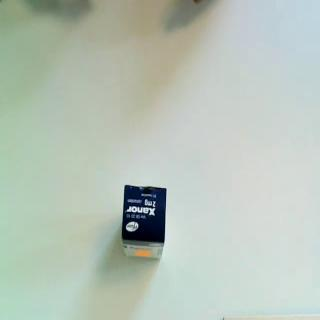xanor2mg: (121, 182, 169, 266)
